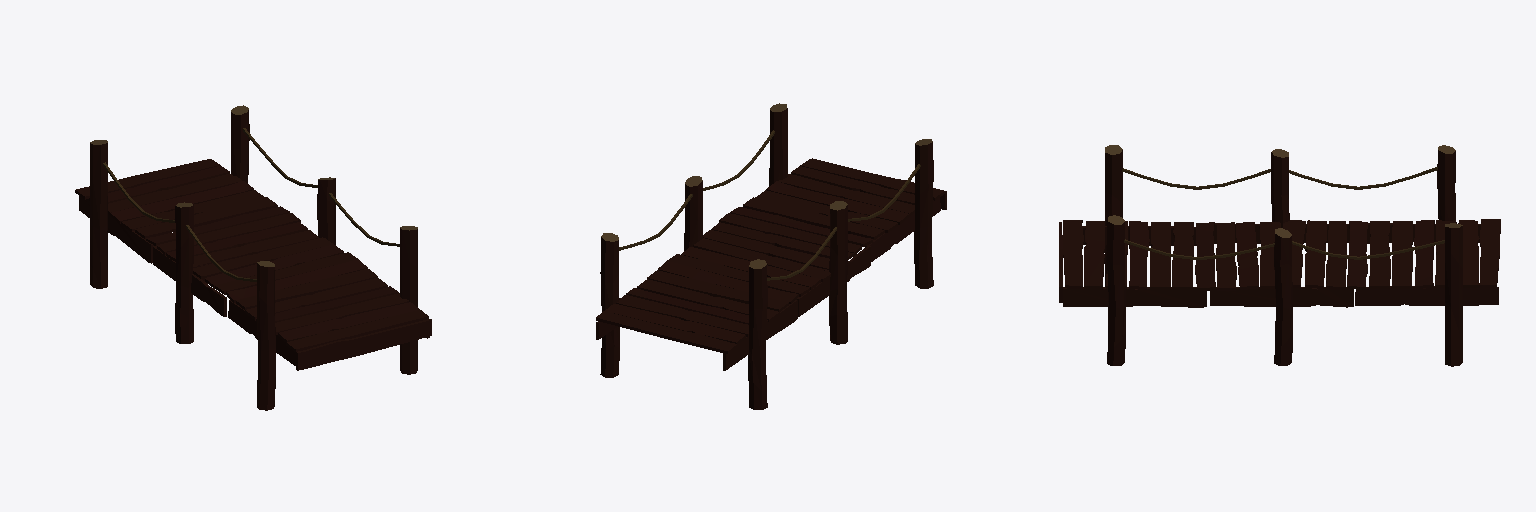
File: Dock_Long.obj
3 renders of one model, left to right at view 1: azimuth 30°, elevation 25°; view 2: azimuth 150°, elevation 25°; view 3: azimuth 270°, elevation 25°, orthographic.
Parts seen in each view (by area): view 1: Dock_Long_Cylinder; view 2: Dock_Long_Cylinder; view 3: Dock_Long_Cylinder.
Part boxes in pixels (bbox=[...]): Dock_Long_Cylinder: bbox=[75, 105, 431, 410]; Dock_Long_Cylinder: bbox=[596, 103, 946, 409]; Dock_Long_Cylinder: bbox=[1059, 145, 1500, 366].
Bounding box in the file's own units: 9.21 × 7.8 × 21.69.